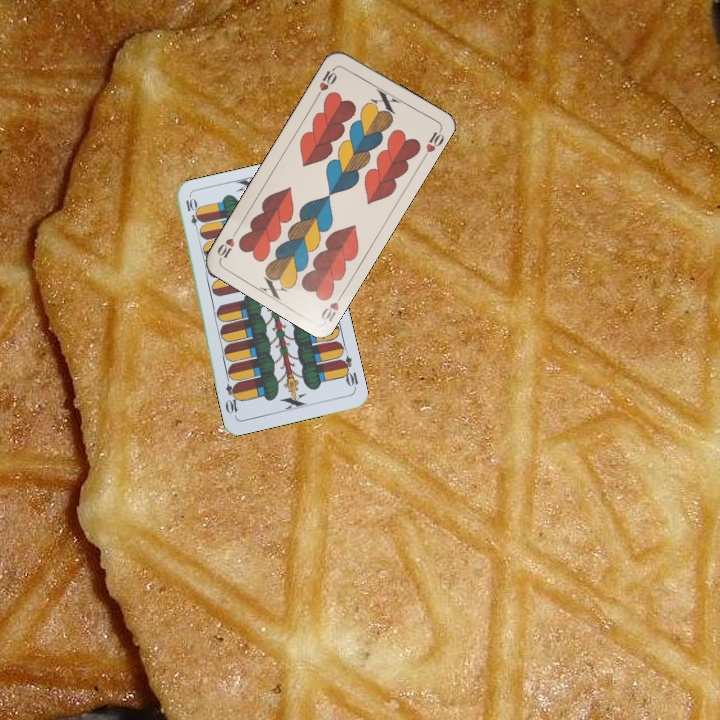E10: (336, 352, 361, 392), (181, 194, 202, 235)
H10: (317, 288, 347, 325), (313, 62, 339, 99)
